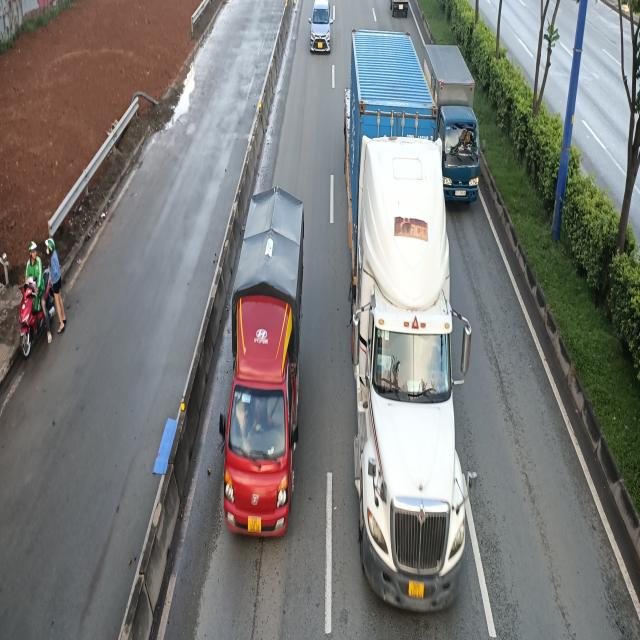car: (310, 0, 334, 51)
container: (344, 31, 474, 614)
truck: (221, 183, 308, 534), (422, 44, 484, 208)
